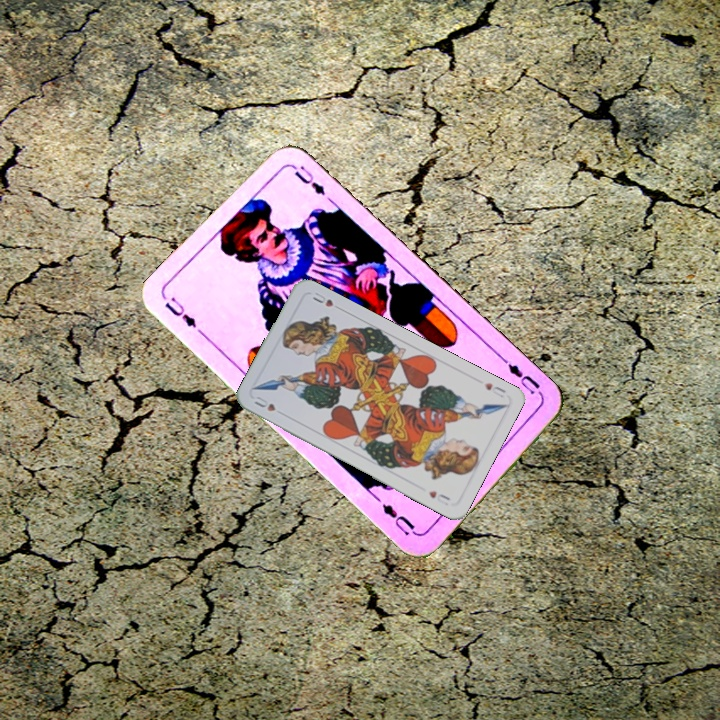EU: (501, 356, 543, 398), (160, 293, 200, 330)
HU: (250, 392, 278, 414), (480, 378, 508, 400)
